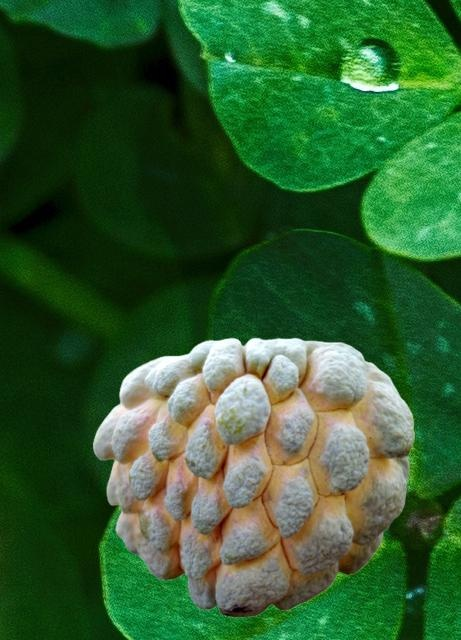atis: (93, 337, 413, 616)
